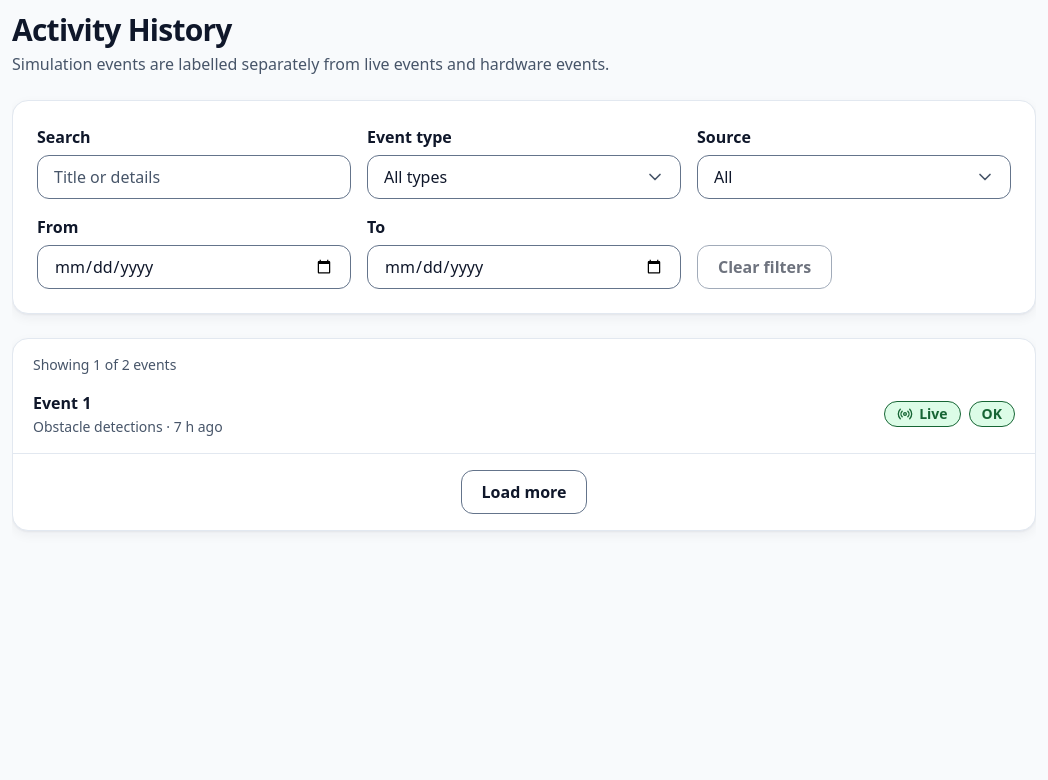
Test: History page › loads more with the next offset
The image size is (1048, 780).
Click the button "Load more".
click(524, 492)  # box 460,470 -> 587,514
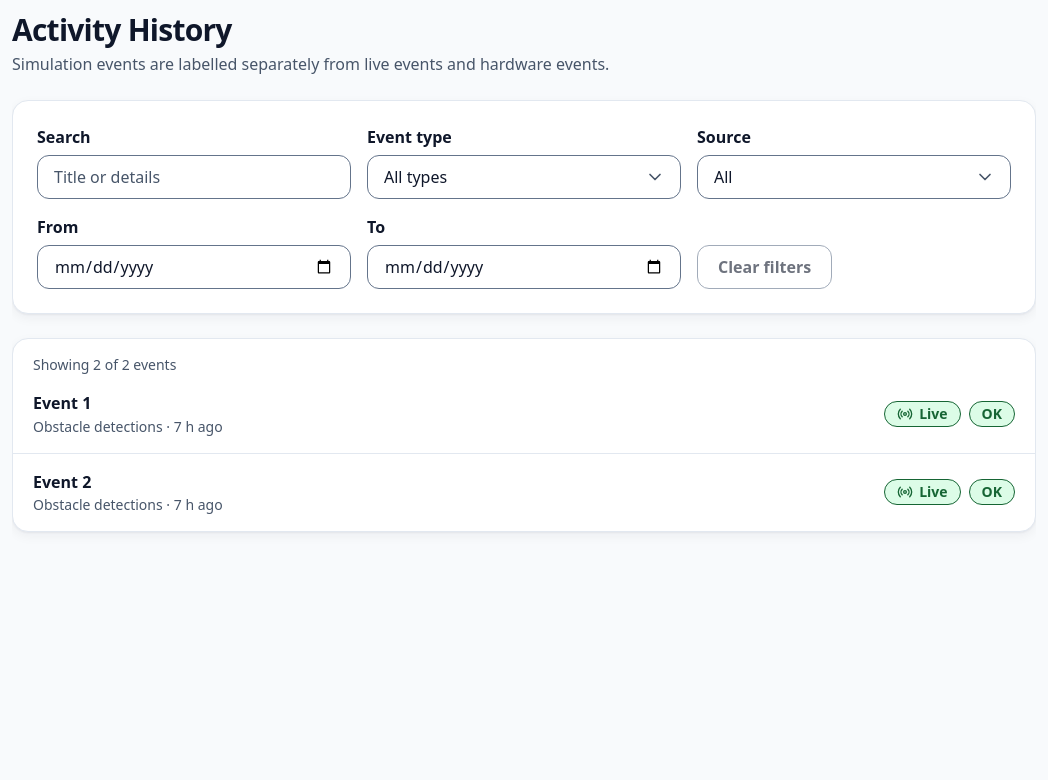
Now the text "Event 2" is shown, box 33,471 -> 91,493
Now the button "Load more" is gone
